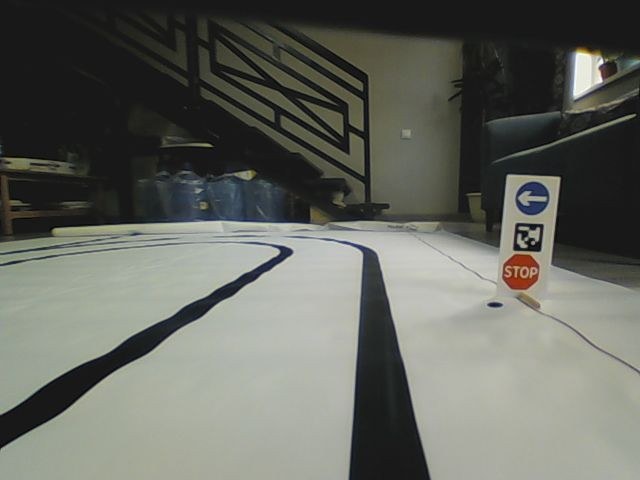Stop: (500, 253, 540, 291)
